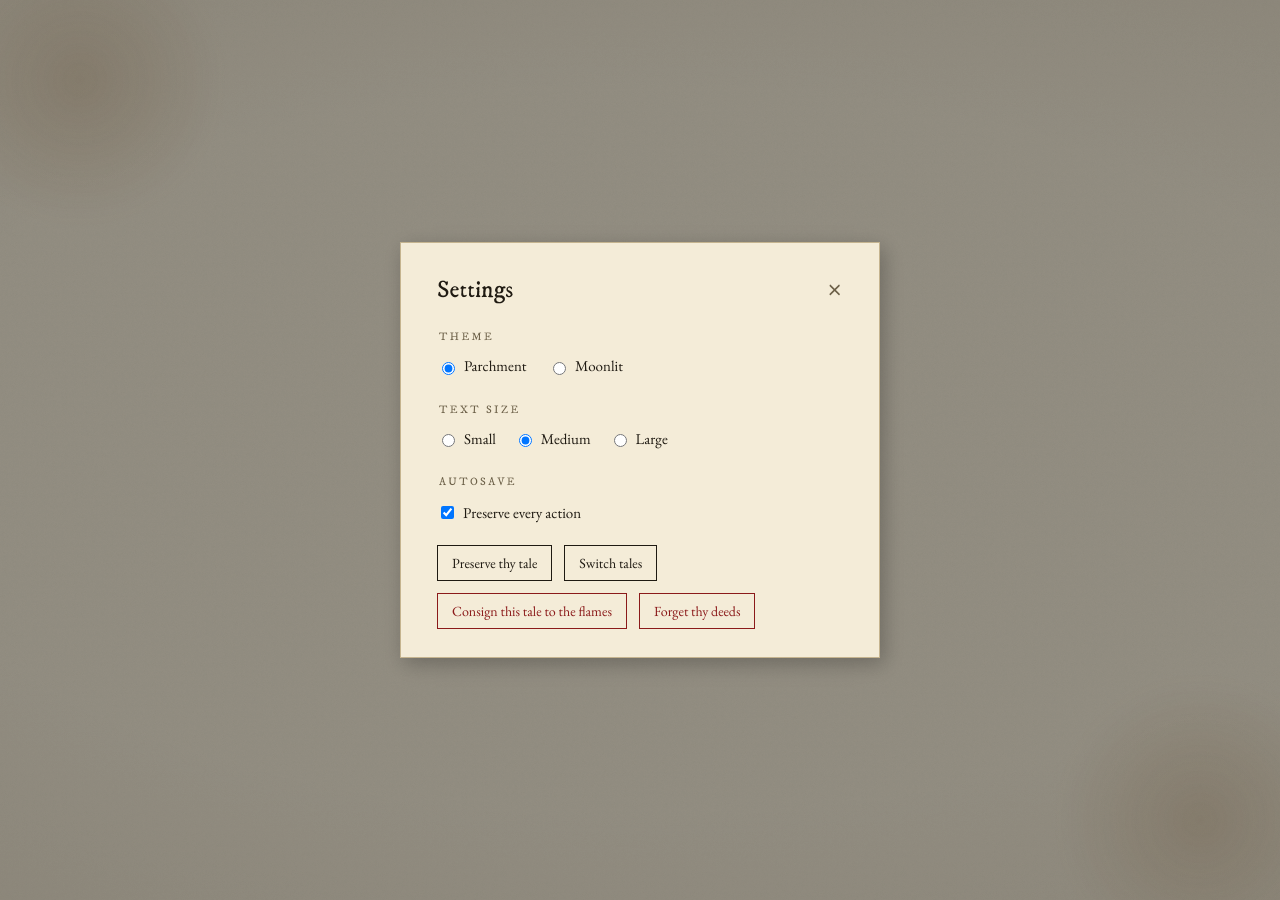
Scenario: SettingsModal › opens the crimson confirm overlay when "Forget thy deeds" is clicked
This screenshot has width=1280, height=900.
Expected: the text "Forget thy deeds?" is not shown
Step 1. Click the button "Forget thy deeds" → coordinates (697, 612), box [639, 594, 755, 630]
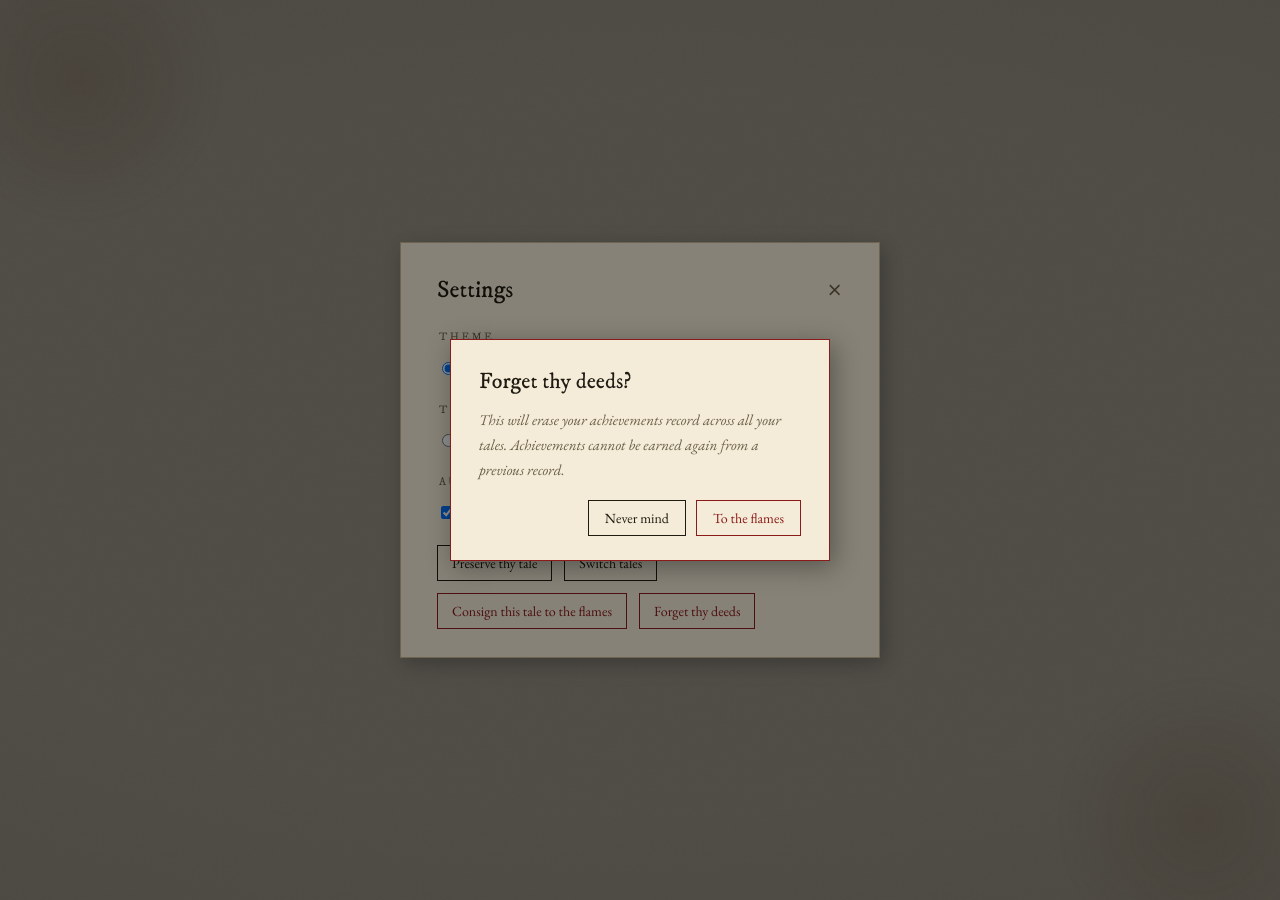
Now the heading "Forget thy deeds?" is shown, box [479, 368, 631, 395]
